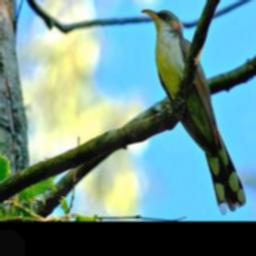Cuckoo: (141, 8, 247, 213)
